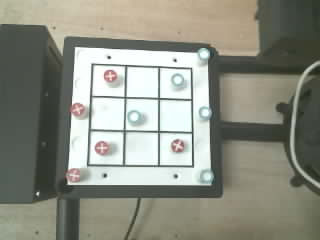blue circle: (127, 110, 141, 124), (200, 169, 213, 183), (171, 73, 184, 87), (199, 106, 211, 119), (198, 48, 209, 60)
board: (66, 47, 213, 185)
cells: (89, 131, 123, 164), (160, 133, 192, 165), (125, 132, 157, 164), (125, 99, 158, 130), (91, 98, 124, 129), (92, 65, 124, 96), (160, 100, 191, 131), (127, 67, 158, 97), (160, 68, 191, 98)
grid: (87, 64, 193, 167)
red cross: (95, 141, 109, 155), (70, 103, 84, 116), (66, 168, 79, 182), (171, 139, 184, 152), (104, 70, 117, 83)
